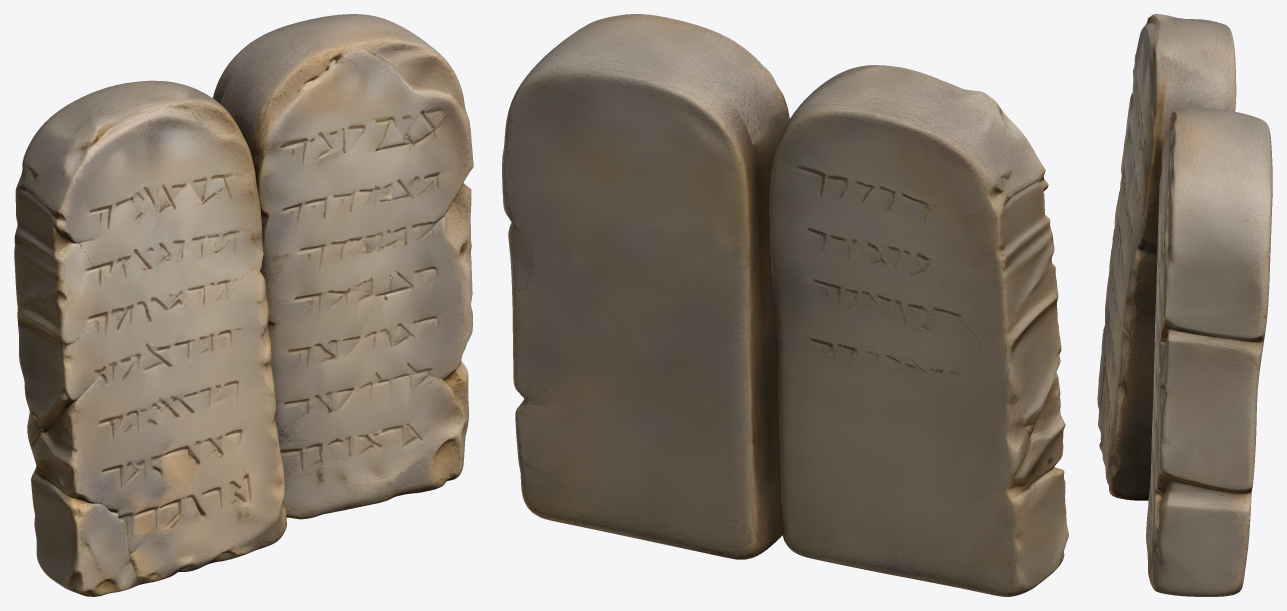
Rendered from Covenant_Tablets_VR_1K.glb.
3 views of the same model, side by side, from view 1: azimuth 30°, elevation 25°; view 2: azimuth 150°, elevation 25°; view 3: azimuth 270°, elevation 25° (orthographic). The views are drawn at different scales.
Parts seen in each view (by area): view 1: Covenant_Tablets; view 2: Covenant_Tablets; view 3: Covenant_Tablets.
Part boxes in pixels (x1,y1,x2,y2): Covenant_Tablets: (14,14,473,596); Covenant_Tablets: (502,14,1068,596); Covenant_Tablets: (1097,14,1272,596).
Size of the model in its own units: 0.8602 by 0.86 by 0.3185.
1 material, 1 textured.
